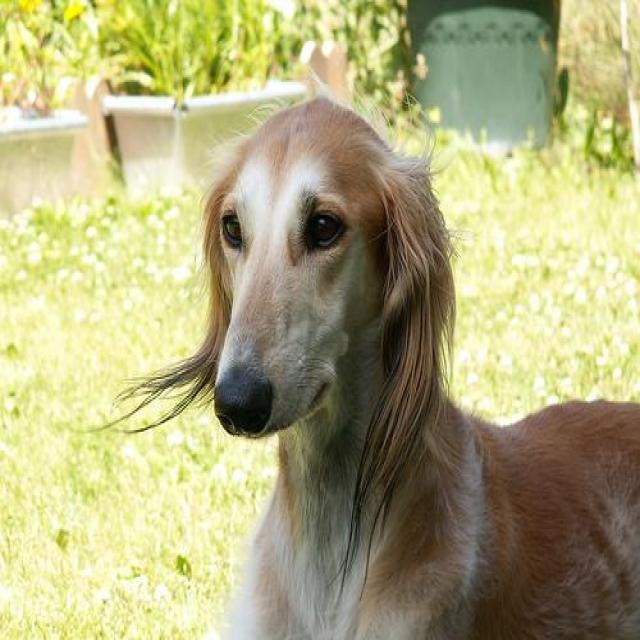saluki: (116, 89, 638, 638)
